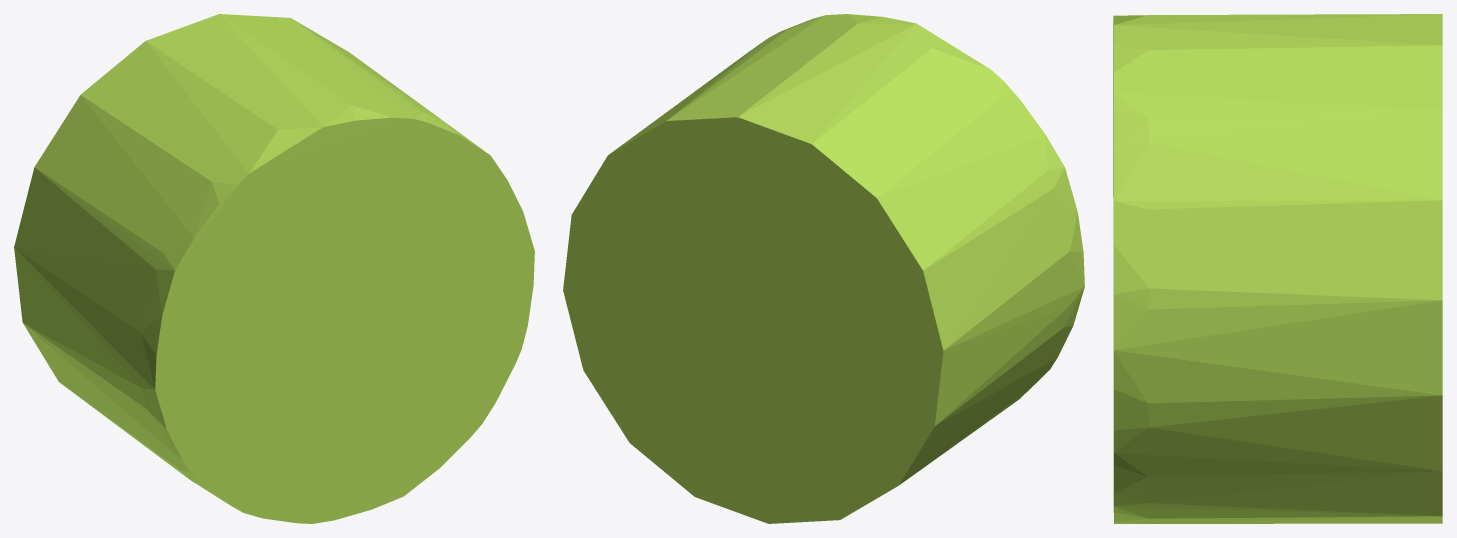
The model's file is ur10_e_link_2_coll_3.dae.
3 views of the same model, side by side, from view 1: azimuth 30°, elevation 25°; view 2: azimuth 150°, elevation 25°; view 3: azimuth 270°, elevation 25° (orthographic). The views are drawn at different scales.
Visible parts, largest first — view 1: node; view 2: node; view 3: node.
Part boxes in pixels (bbox=[...]): node: bbox=[14, 14, 534, 523]; node: bbox=[563, 14, 1084, 523]; node: bbox=[1113, 14, 1442, 523].
Size of the model in its own units: 0.1497 by 0.1501 by 0.0966.
